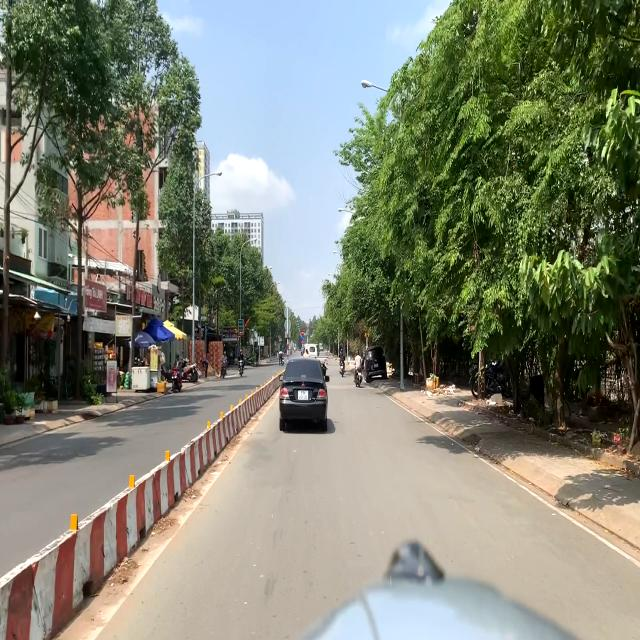P.102: (301, 330, 304, 335)
R.302a: (302, 336, 304, 340)
